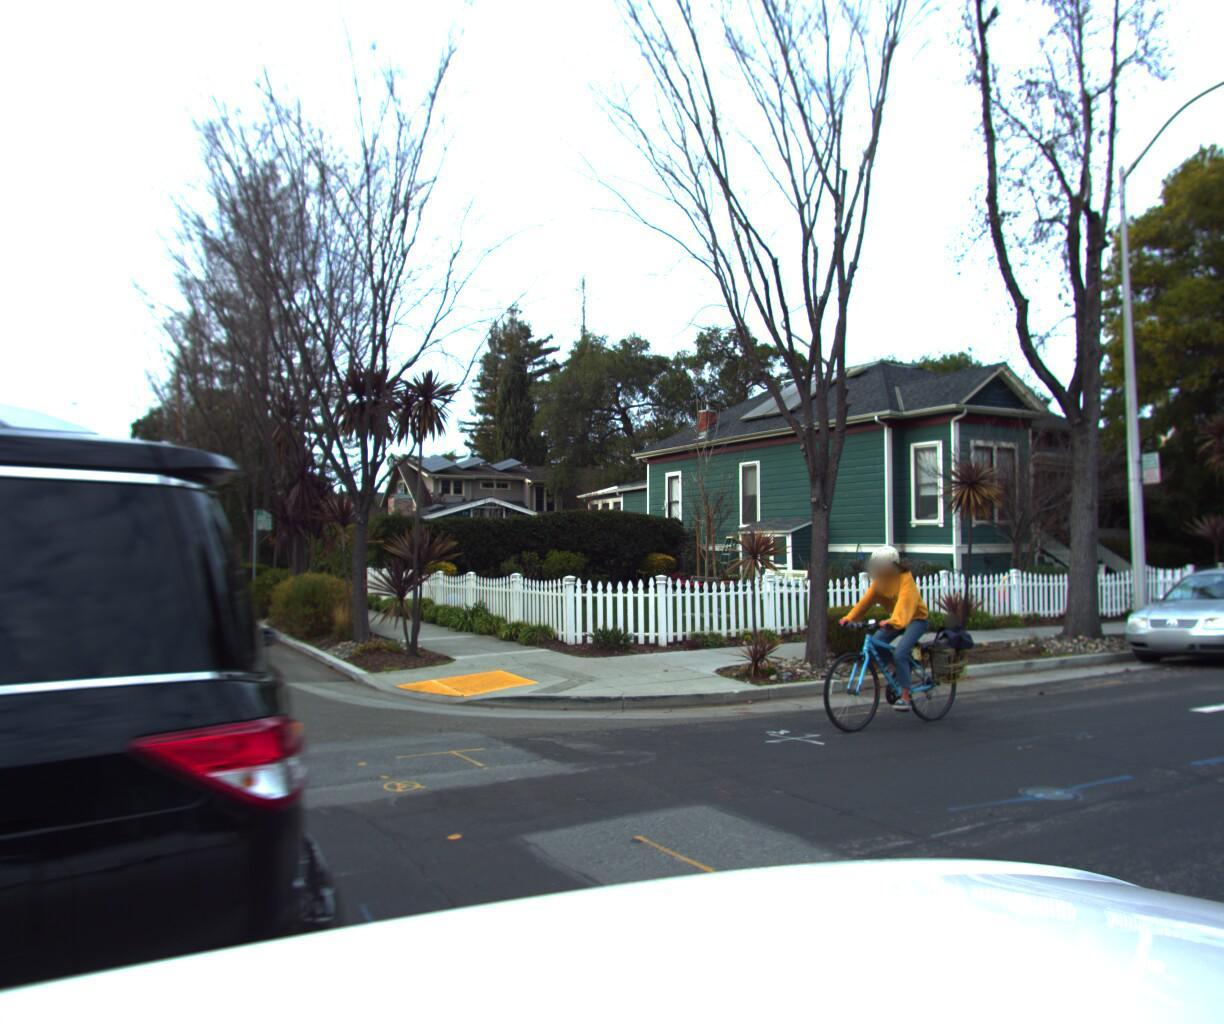bicycle: (793, 530, 1001, 739)
car: (1088, 553, 1224, 676)
